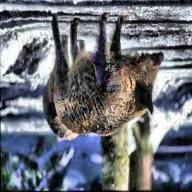boar: (39, 19, 165, 150)
